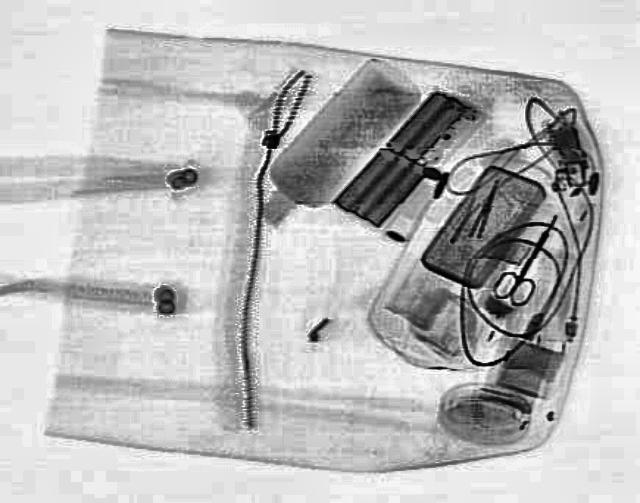Scissors: (484, 209, 572, 307)
